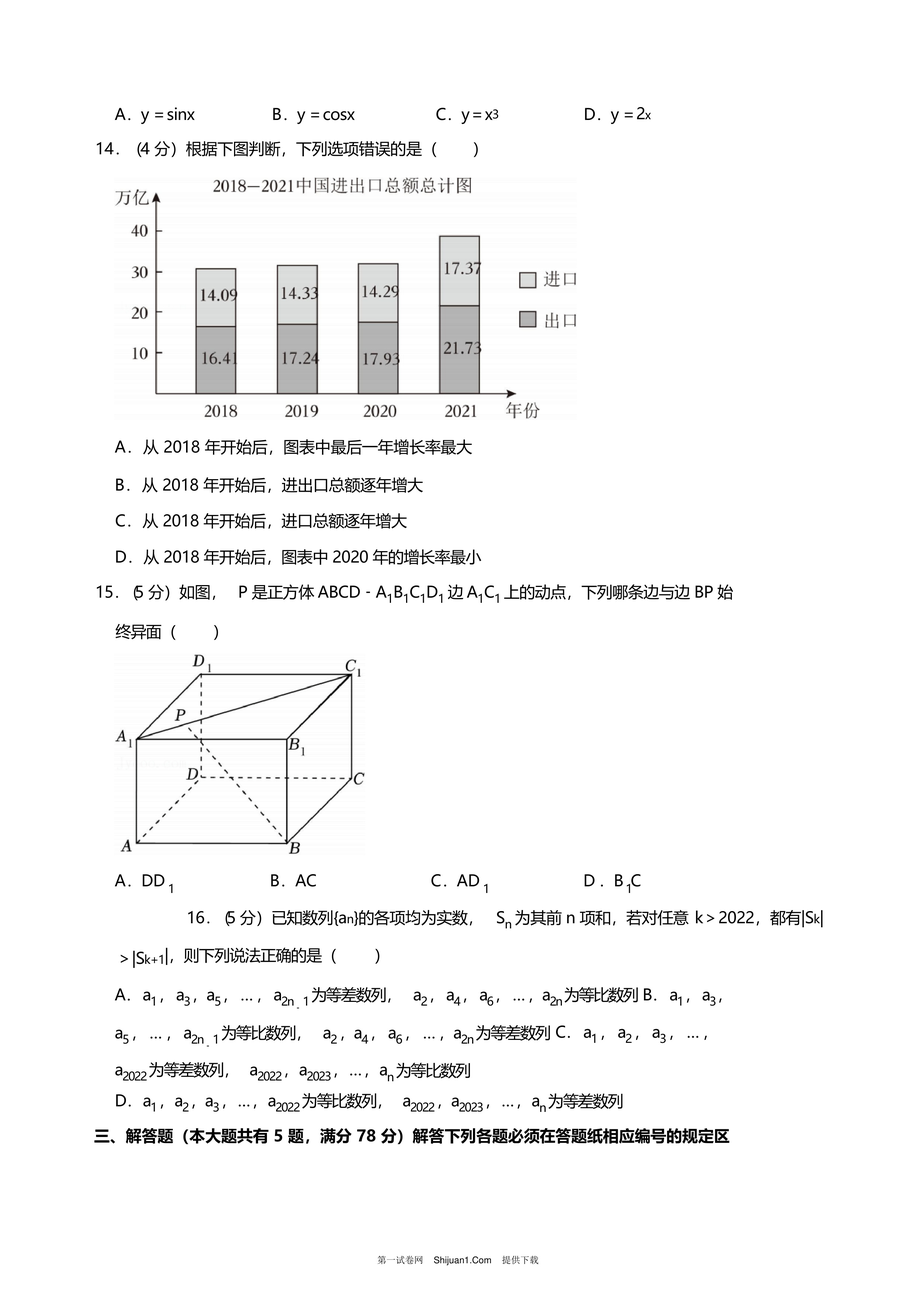question: (92, 573, 783, 907), (88, 134, 608, 573), (97, 899, 853, 1119), (92, 94, 664, 136)
